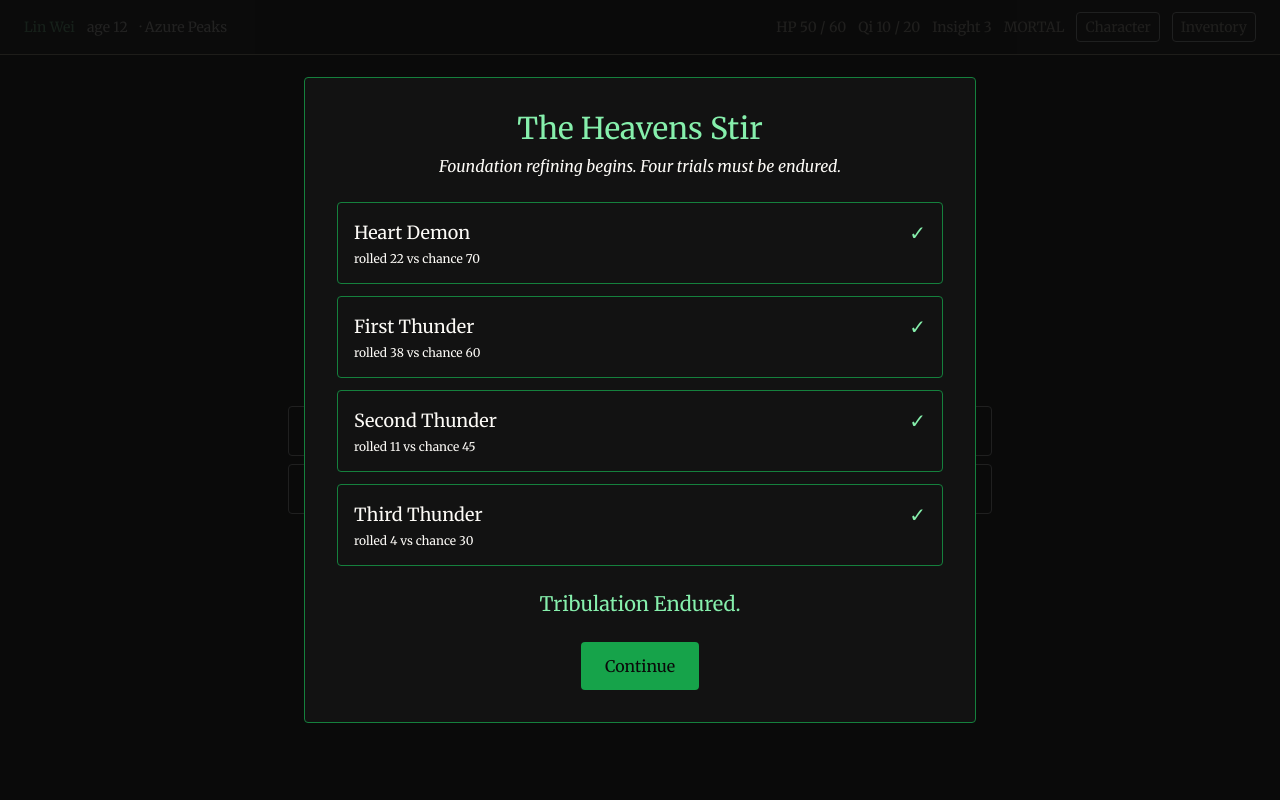
Phase 2B-3: PlayScreen renders TribulationPanel inline › hides TribulationPanel after the user clicks Continue
Click the button "Continue".
click(640, 666)  # box [581, 642, 699, 690]
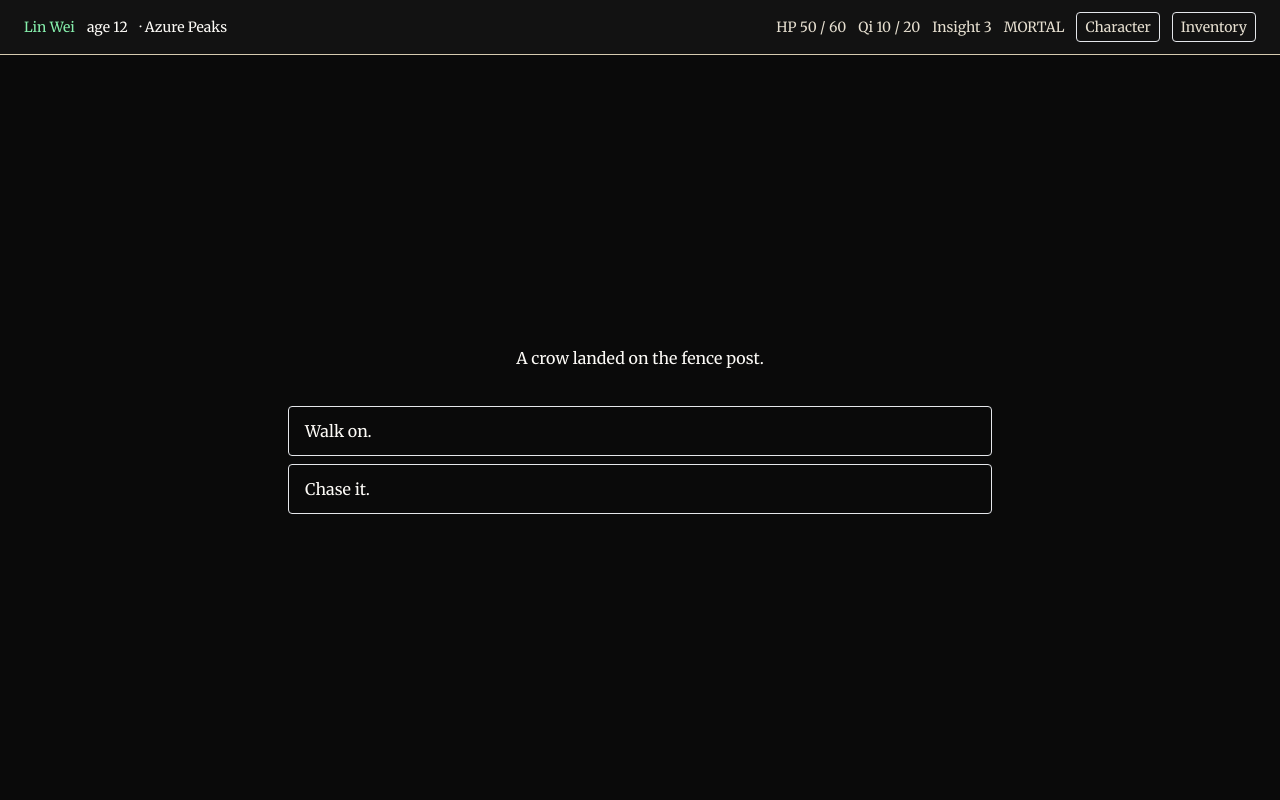
Expected: the heading "The Heavens Stir" is gone
